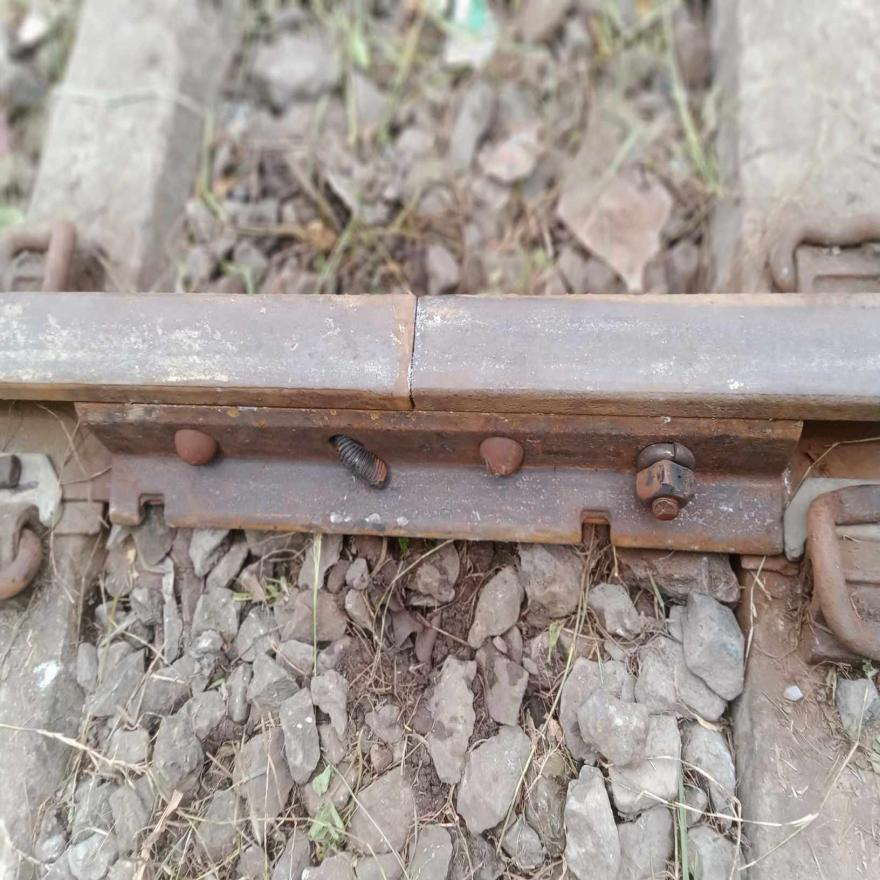railway-gap: (347, 268, 482, 434)
